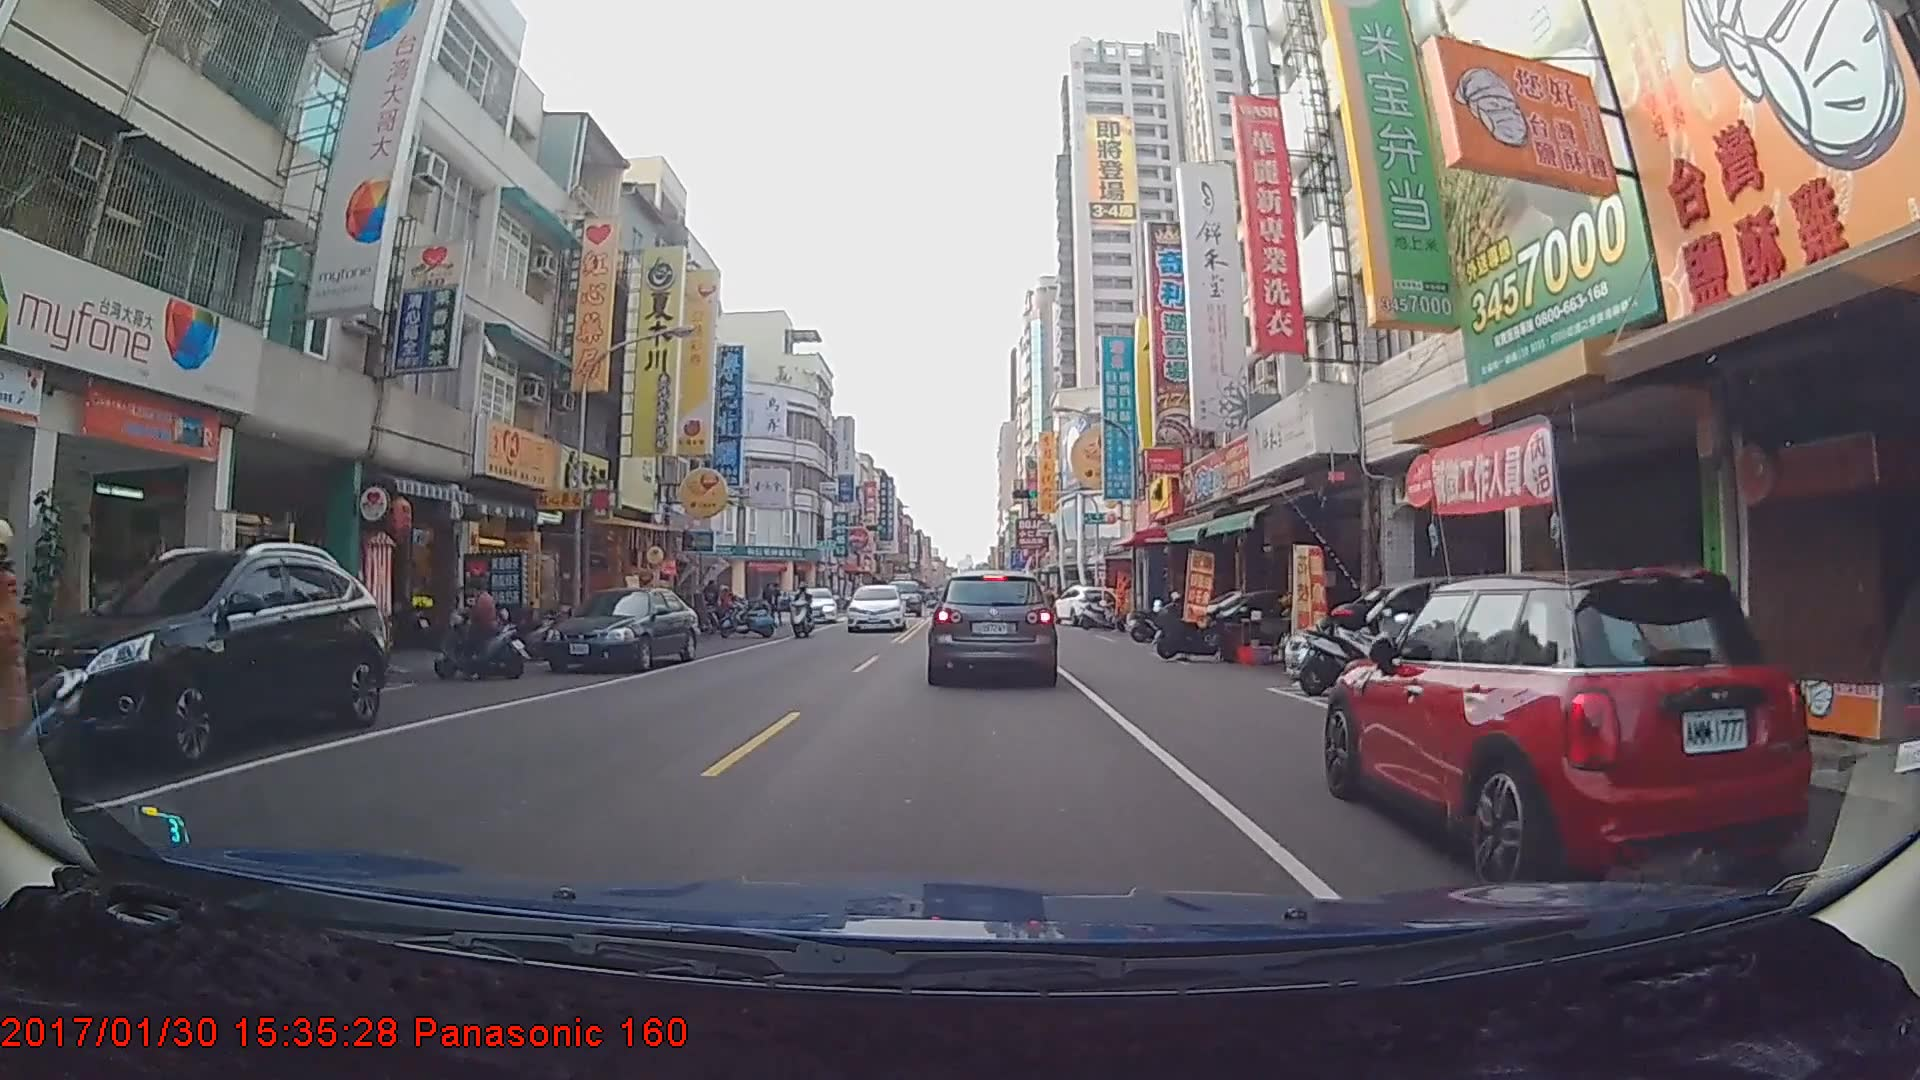rider: (429, 570, 541, 685), (786, 584, 815, 639)
vehicle: (1322, 566, 1812, 898), (16, 547, 387, 771), (931, 566, 1056, 683), (540, 588, 701, 670), (1051, 581, 1119, 626), (844, 583, 904, 631), (789, 581, 837, 619)
